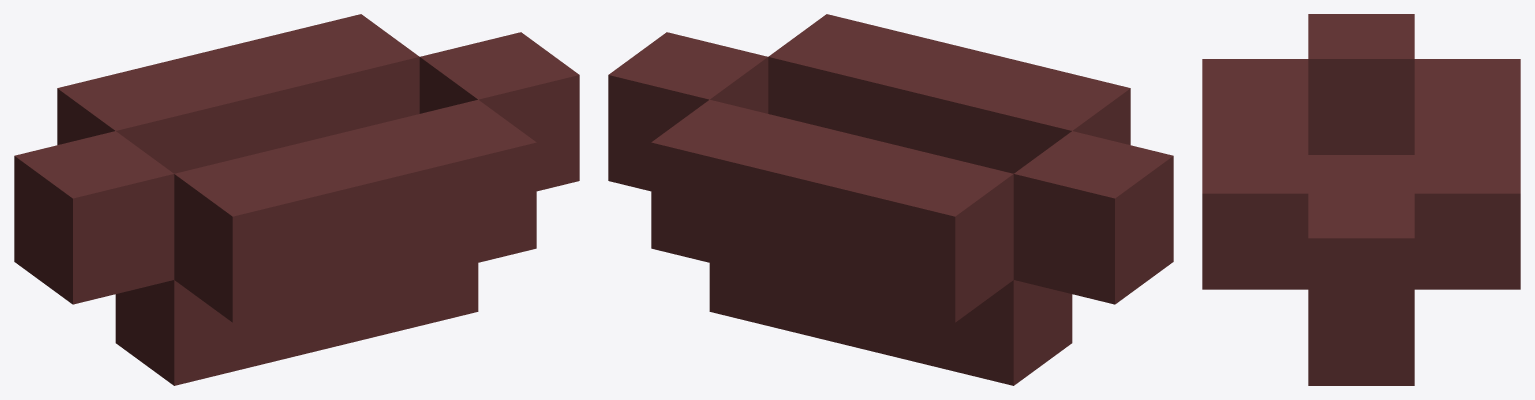
Rendered from lilboat.obj.
The picture shows the model from 3 angles, left to right: view 1: azimuth 30°, elevation 25°; view 2: azimuth 150°, elevation 25°; view 3: azimuth 270°, elevation 25°; orthographic projection. The views are drawn at different scales.
Visible parts, largest first — view 1: lilboat; view 2: lilboat; view 3: lilboat.
Boxes of the visible parts, x1,y1,x2,y2 form: lilboat: (14,14,579,385); lilboat: (608,14,1173,385); lilboat: (1202,14,1520,385).
Size of the model in its own units: 5 by 2 by 3.
Materials: 1 (1 with a texture image).
